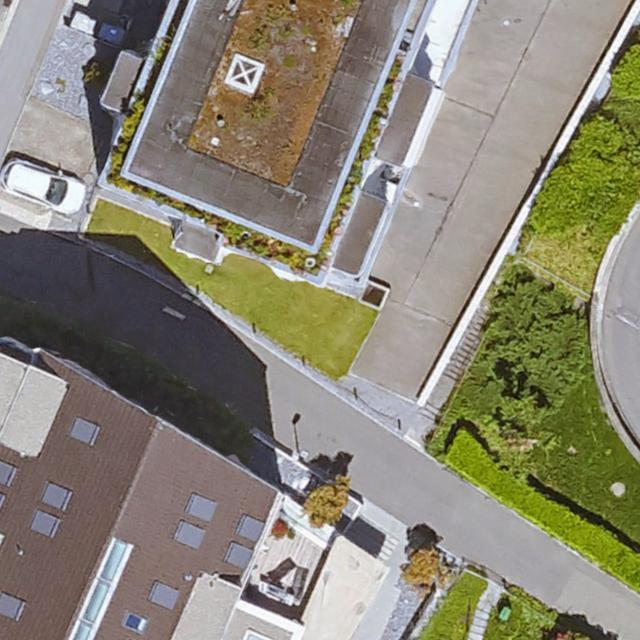tree: (402, 547, 455, 590), (304, 479, 348, 524), (540, 630, 604, 640)
